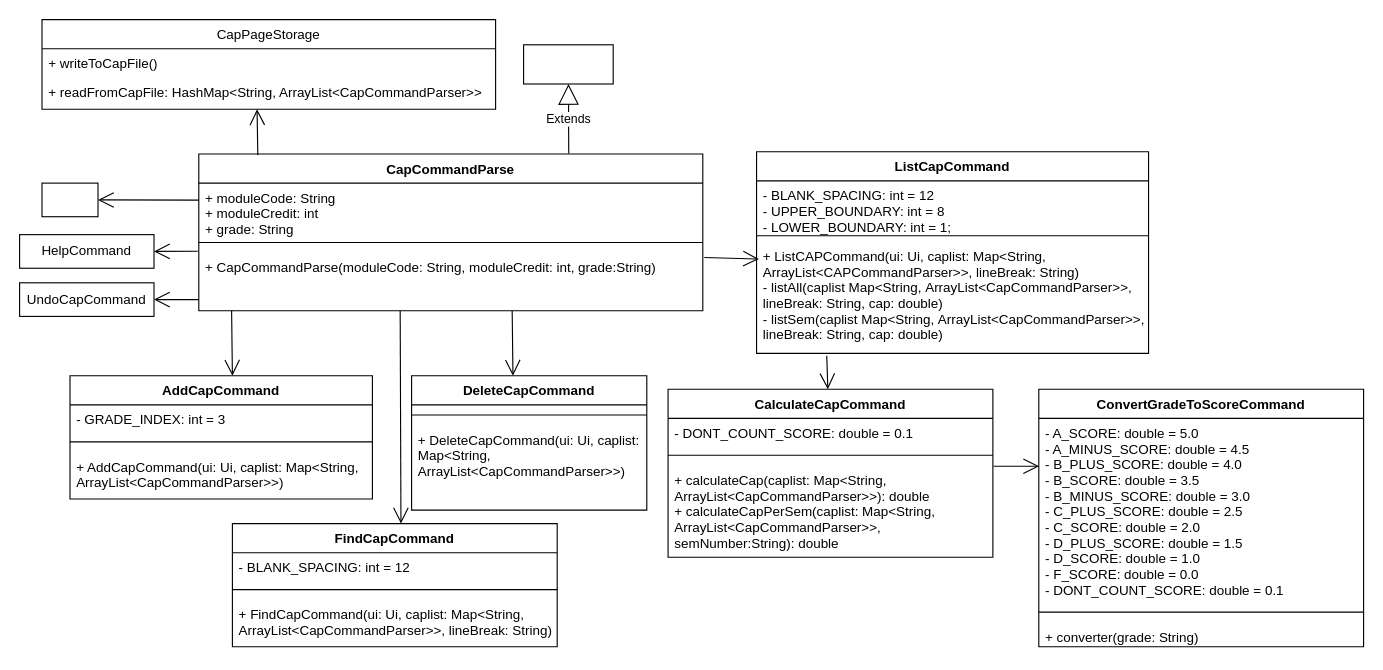
The diagram is 1383 pixels wide and 670 high, and some of its shapes have lost their labels. Here are the shapes that lost their labels. From the top down, the centre of each, then its label:
At pixel 567 64: "Command".
At pixel 69 199: "Ui".
